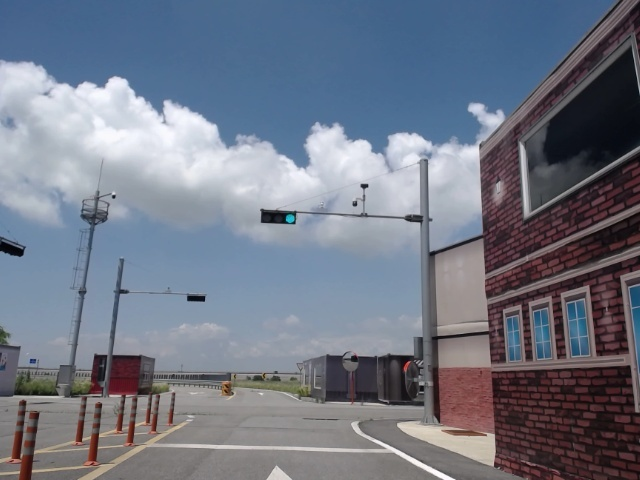green_3: (260, 208, 300, 225)
